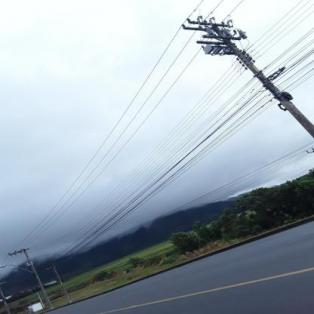Poste: (205, 21, 314, 141), (22, 248, 54, 309)
